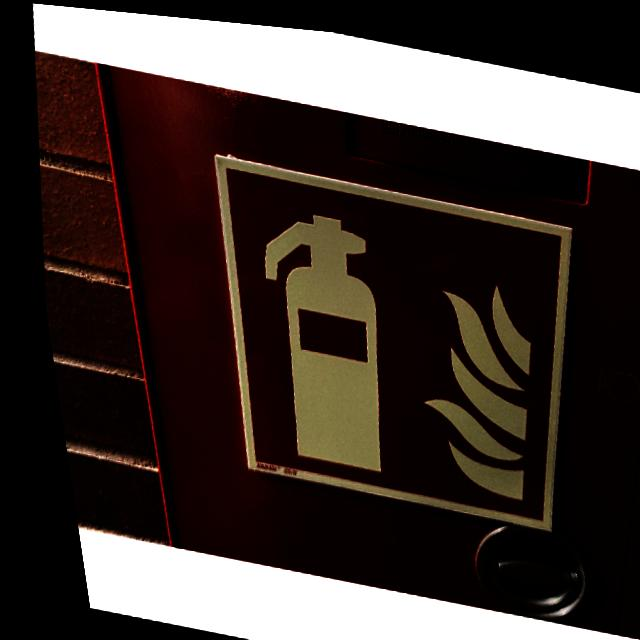fire extinguisher: (177, 149, 604, 530)
